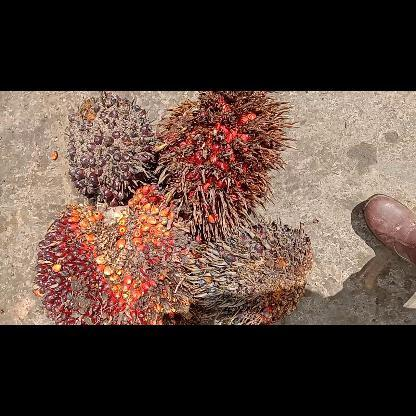Kurang masak: (62, 91, 156, 205)
TBS abnormal: (183, 218, 313, 324)
TBS masak: (33, 184, 189, 324)
Terlalu masak: (157, 90, 296, 233)
